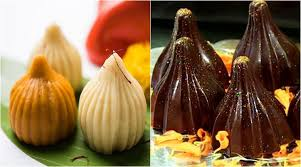modak: (78, 47, 153, 158), (5, 56, 82, 146), (34, 20, 94, 91)
